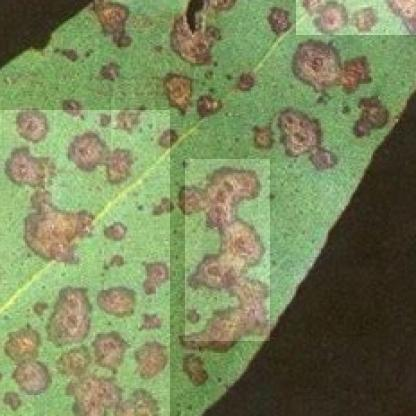black-spot: (0, 110, 170, 416), (185, 159, 270, 341), (296, 0, 416, 35)
